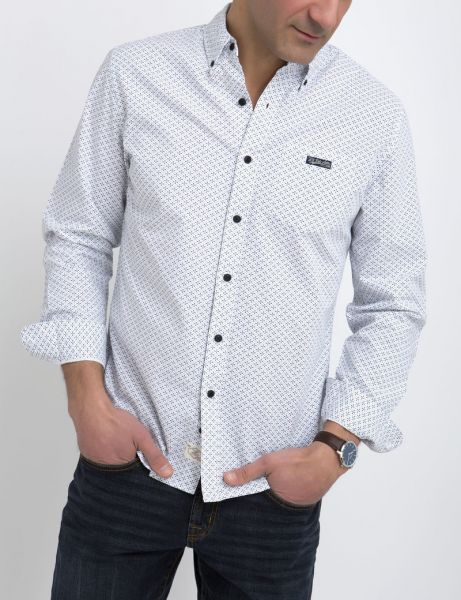Shirt: (30, 26, 458, 497)
